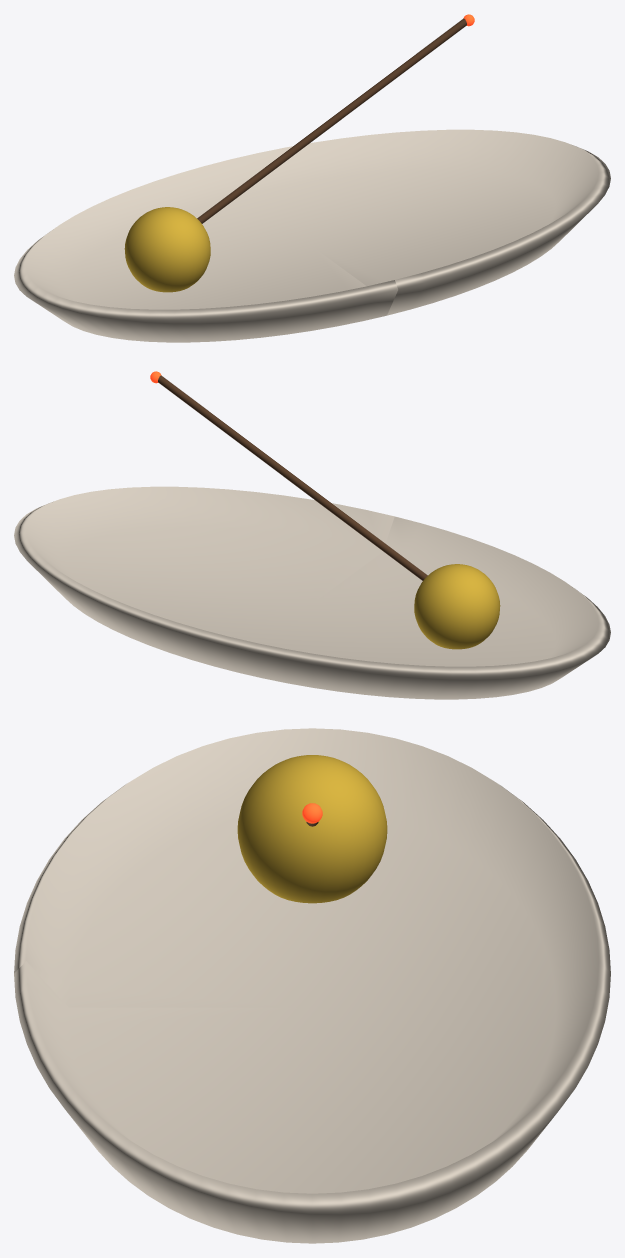
File: incense_holder.glb
3 renders of one model, top to bottom at view 1: azimuth 30°, elevation 25°; view 2: azimuth 150°, elevation 25°; view 3: azimuth 270°, elevation 25°, orthographic. The views are drawn at different scales.
Size of the model in its own units: 2.45 by 0.852 by 1.27.
